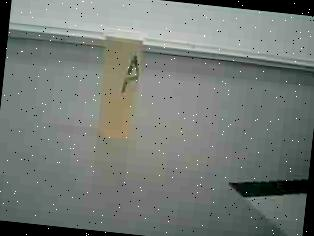Bottle A: (90, 21, 151, 146)
